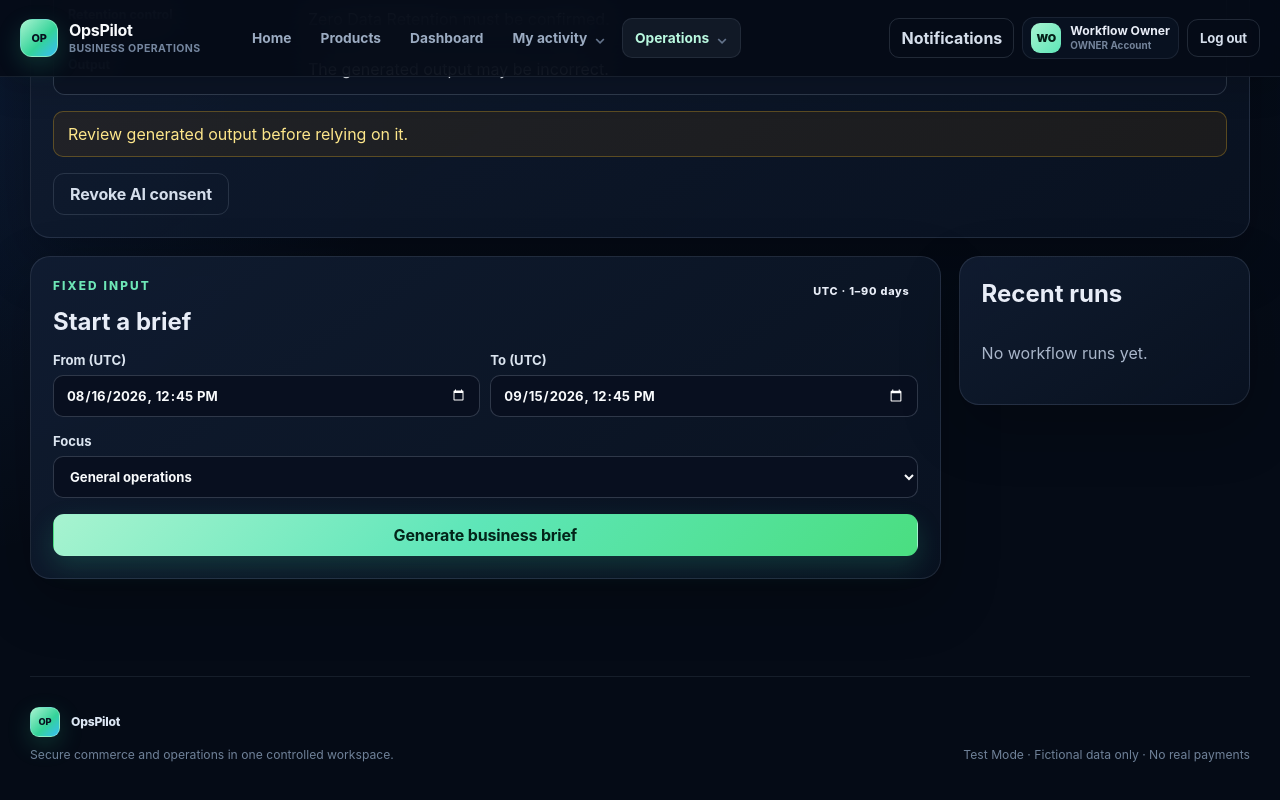
Scenario: Phase 9 workflow UI › starts an owner brief and separates generated interpretation from authoritative sources
(page scrolled)
Click the button "Generate business brief": (485, 535) left=53, top=514, right=918, bottom=556
(page scrolled)
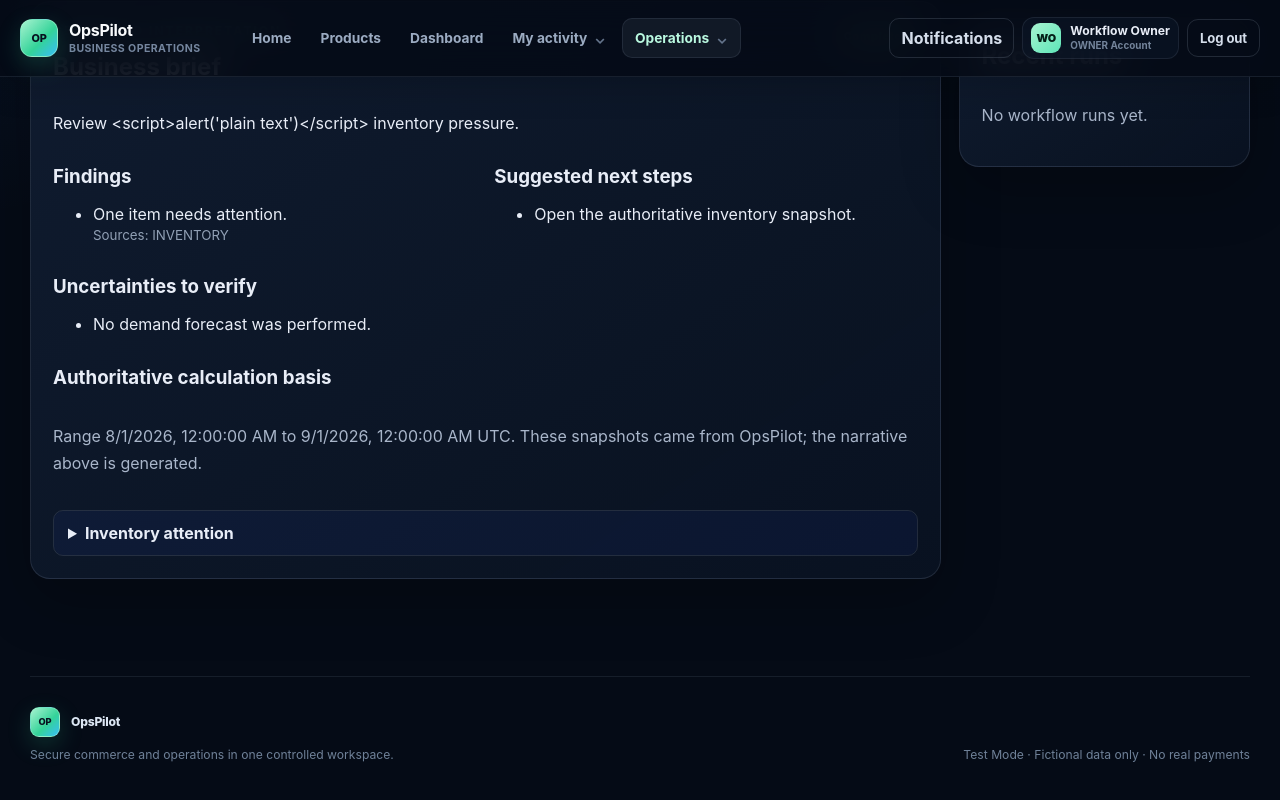
Expected: the text "Review <script>alert" is shown, left=53, top=113, right=519, bottom=133
Expected: the heading "Authoritative calculation basis" is shown, left=53, top=366, right=332, bottom=389
Expected: the heading "Inventory attention" is shown, left=54, top=511, right=917, bottom=555
